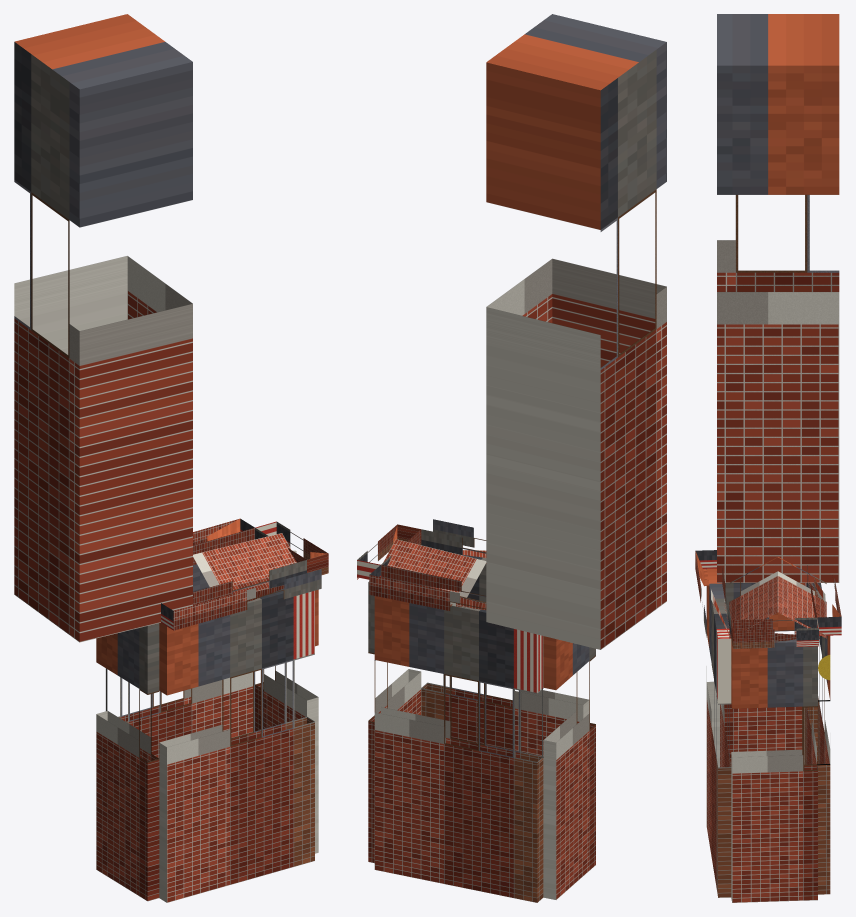
The picture shows the model from 3 angles, left to right: view 1: azimuth 30°, elevation 25°; view 2: azimuth 150°, elevation 25°; view 3: azimuth 270°, elevation 25°; orthographic projection. The views are drawn at different scales.
Parts seen in each view (by area): view 1: 1106967118__chimney_0_xb, 1106967118__wall_1_xb, 1106967118__wall_2_xb, 1106967118__wall_3_xb, 1106967118__cornice_1, 1106967118_roof_-1_xb, 1106967118__wall_0_xb, 1106967118__cornice_3, 1106967118__cornice_0; view 2: 1106967118__chimney_0_xb, 1106967118__wall_3_xb, 1106967118__wall_2_xb, 1106967118__wall_1_xb, 1106967118__cornice_3, 1106967118__wall_0_xb, 1106967118_roof_1_xb, 1106967118__cornice_1, 1106967118__cornice_0; view 3: 1106967118__chimney_0_xb, 1106967118__wall_0_xb, 1106967118__wall_1_xb, 1106967118__wall_2_xb, 1106967118__wall_3_xb, 1106967118__cornice_0, 1106967118_roof_-1_xb, 1106967118_roof_1_xb, 1106967118__cornice_1, 1106967118__cornice_3.
Part boxes in pixels (x1=…): 1106967118__chimney_0_xb: x1=14, y1=14, x2=192, y2=642; 1106967118__wall_1_xb: x1=159, y1=588, x2=314, y2=902; 1106967118__wall_2_xb: x1=96, y1=623, x2=159, y2=901; 1106967118__wall_3_xb: x1=106, y1=564, x2=252, y2=758; 1106967118__cornice_1: x1=161, y1=560, x2=321, y2=630; 1106967118_roof_-1_xb: x1=193, y1=533, x2=296, y2=593; 1106967118__wall_0_xb: x1=255, y1=589, x2=318, y2=853; 1106967118__cornice_3: x1=193, y1=518, x2=254, y2=565; 1106967118__cornice_0: x1=255, y1=521, x2=328, y2=574; 1106967118__chimney_0_xb: x1=486, y1=14, x2=666, y2=649; 1106967118__wall_3_xb: x1=374, y1=596, x2=543, y2=902; 1106967118__wall_2_xb: x1=543, y1=636, x2=595, y2=899; 1106967118__wall_1_xb: x1=421, y1=555, x2=589, y2=756; 1106967118__cornice_3: x1=369, y1=565, x2=486, y2=610; 1106967118__wall_0_xb: x1=368, y1=581, x2=421, y2=863; 1106967118_roof_1_xb: x1=383, y1=539, x2=486, y2=606; 1106967118__cornice_1: x1=421, y1=519, x2=486, y2=557; 1106967118__cornice_0: x1=357, y1=524, x2=421, y2=579; 1106967118__chimney_0_xb: x1=717, y1=14, x2=839, y2=582; 1106967118__wall_0_xb: x1=731, y1=639, x2=817, y2=902; 1106967118__wall_1_xb: x1=706, y1=568, x2=731, y2=897; 1106967118__wall_2_xb: x1=723, y1=583, x2=804, y2=766; 1106967118__wall_3_xb: x1=804, y1=583, x2=830, y2=894; 1106967118__cornice_0: x1=731, y1=617, x2=818, y2=648; 1106967118_roof_-1_xb: x1=729, y1=557, x2=777, y2=638; 1106967118_roof_1_xb: x1=778, y1=557, x2=826, y2=638; 1106967118__cornice_1: x1=695, y1=550, x2=731, y2=638; 1106967118__cornice_3: x1=807, y1=565, x2=841, y2=635.
Bounding box in the file's own units: 0.3413 × 1.05 × 0.1792.
1 material, 1 textured.
